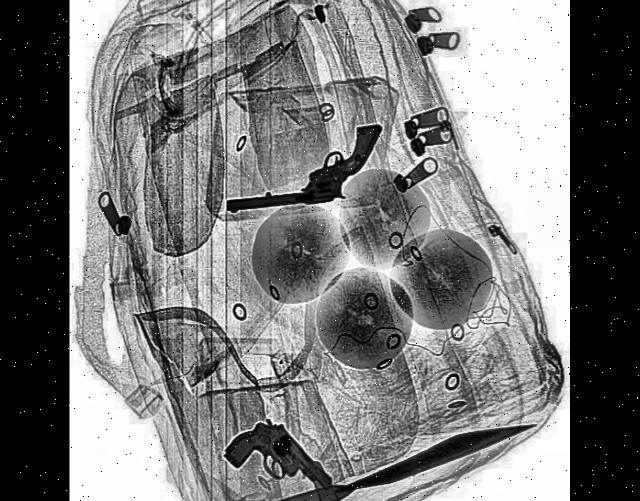Gun: (222, 124, 388, 217), (223, 393, 335, 501)
Knife: (215, 406, 539, 501)
